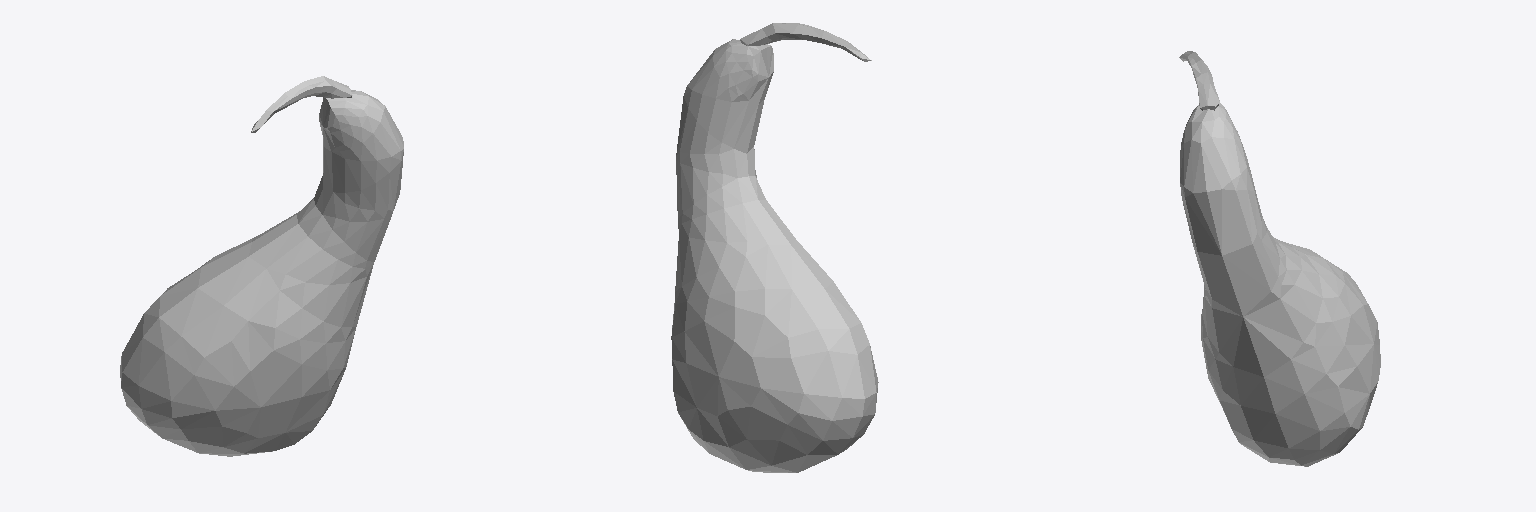
The model's file is gourd.obj.
3 renders of one model, left to right at view 1: azimuth 30°, elevation 25°; view 2: azimuth 150°, elevation 25°; view 3: azimuth 270°, elevation 25°, orthographic.
Visible parts, largest first — view 1: gourd; view 2: gourd; view 3: gourd.
Part boxes in pixels (bbox=[...]): gourd: bbox=[120, 76, 403, 456]; gourd: bbox=[671, 23, 878, 472]; gourd: bbox=[1179, 51, 1380, 466].
Bounding box in the file's own units: 45.79 × 76.25 × 34.65.